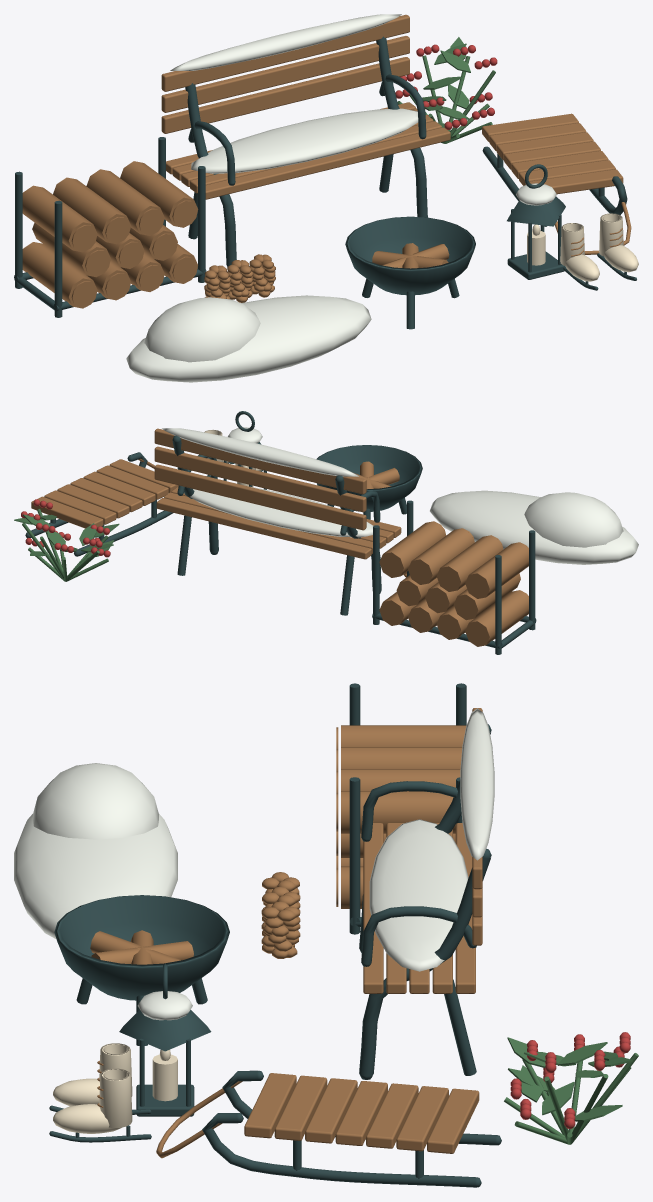
The model's file is almanac-gardens-winter-hearth-vignette-2e9f2952__22104.glb.
The picture shows the model from 3 angles, top to bottom: view 1: azimuth 30°, elevation 25°; view 2: azimuth 150°, elevation 25°; view 3: azimuth 270°, elevation 25°; orthographic projection. The views are drawn at different scales.
Parts seen in each view (by area): view 1: 000-snowy-bench/snowy-bench-oak, 006-snowdrift/snowdrift-snow, 002-firewood-rack/firewood-rack-bark, 000-snowy-bench/snowy-bench-snow, 004-wooden-sled/wooden-sled-oak, 001-garden-firepit/garden-firepit-iron, 002-firewood-rack/firewood-rack-oak, 000-snowy-bench/snowy-bench-iron, 002-firewood-rack/firewood-rack-iron, 005-ice-skates/ice-skates-ivory, 003-winter-lantern/winter-lantern-iron, 007-holly-bush/holly-bush-leaf (+6 smaller); view 2: 002-firewood-rack/firewood-rack-bark, 000-snowy-bench/snowy-bench-oak, 006-snowdrift/snowdrift-snow, 004-wooden-sled/wooden-sled-oak, 000-snowy-bench/snowy-bench-snow, 001-garden-firepit/garden-firepit-iron, 002-firewood-rack/firewood-rack-iron, 000-snowy-bench/snowy-bench-iron, 007-holly-bush/holly-bush-leaf, 004-wooden-sled/wooden-sled-iron, 007-holly-bush/holly-bush-red, 001-garden-firepit/garden-firepit-bark (+1 smaller); view 3: 006-snowdrift/snowdrift-snow, 004-wooden-sled/wooden-sled-oak, 000-snowy-bench/snowy-bench-snow, 001-garden-firepit/garden-firepit-iron, 002-firewood-rack/firewood-rack-bark, 000-snowy-bench/snowy-bench-iron, 000-snowy-bench/snowy-bench-oak, 007-holly-bush/holly-bush-leaf, 004-wooden-sled/wooden-sled-iron, 005-ice-skates/ice-skates-ivory, 003-winter-lantern/winter-lantern-iron, 002-firewood-rack/firewood-rack-iron (+7 smaller).
Boxes of the visible parts, left/top/right/bottom form: 000-snowy-bench/snowy-bench-oak: left=161, top=14, right=450, bottom=199; 006-snowdrift/snowdrift-snow: left=126, top=295, right=371, bottom=382; 002-firewood-rack/firewood-rack-bark: left=22, top=161, right=198, bottom=308; 000-snowy-bench/snowy-bench-snow: left=170, top=14, right=418, bottom=173; 004-wooden-sled/wooden-sled-oak: left=482, top=113, right=631, bottom=254; 001-garden-firepit/garden-firepit-iron: left=345, top=216, right=475, bottom=329; 002-firewood-rack/firewood-rack-oak: left=71, top=200, right=197, bottom=307; 000-snowy-bench/snowy-bench-iron: left=185, top=36, right=427, bottom=266; 002-firewood-rack/firewood-rack-iron: left=14, top=137, right=206, bottom=317; 005-ice-skates/ice-skates-ivory: left=560, top=213, right=638, bottom=281; 003-winter-lantern/winter-lantern-iron: left=507, top=164, right=565, bottom=279; 007-holly-bush/holly-bush-leaf: left=397, top=37, right=495, bottom=143; 002-firewood-rack/firewood-rack-bark: left=379, top=521, right=528, bottom=646; 000-snowy-bench/snowy-bench-oak: left=154, top=428, right=401, bottom=559; 006-snowdrift/snowdrift-snow: left=430, top=490, right=638, bottom=564; 004-wooden-sled/wooden-sled-oak: left=31, top=458, right=178, bottom=528; 000-snowy-bench/snowy-bench-snow: left=162, top=428, right=373, bottom=537; 001-garden-firepit/garden-firepit-iron: left=316, top=445, right=422, bottom=519; 002-firewood-rack/firewood-rack-iron: left=372, top=500, right=536, bottom=654; 000-snowy-bench/snowy-bench-iron: left=172, top=435, right=381, bottom=615; 007-holly-bush/holly-bush-leaf: left=14, top=509, right=119, bottom=581; 004-wooden-sled/wooden-sled-iron: left=25, top=452, right=173, bottom=556; 007-holly-bush/holly-bush-red: left=21, top=499, right=110, bottom=557; 001-garden-firepit/garden-firepit-bark: left=354, top=461, right=399, bottom=489; 006-snowdrift/snowdrift-snow: left=14, top=763, right=177, bottom=939; 004-wooden-sled/wooden-sled-oak: left=156, top=1073, right=479, bottom=1158; 000-snowy-bench/snowy-bench-snow: left=369, top=708, right=494, bottom=971; 001-garden-firepit/garden-firepit-iron: left=54, top=895, right=229, bottom=1045; 002-firewood-rack/firewood-rack-bark: left=341, top=725, right=466, bottom=908; 000-snowy-bench/snowy-bench-iron: left=359, top=724, right=491, bottom=1079; 000-snowy-bench/snowy-bench-oak: left=363, top=708, right=482, bottom=993; 007-holly-bush/holly-bush-leaf: left=504, top=1037, right=638, bottom=1144; 004-wooden-sled/wooden-sled-iron: left=202, top=1070, right=501, bottom=1187; 005-ice-skates/ice-skates-ivory: left=53, top=1043, right=132, bottom=1133; 003-winter-lantern/winter-lantern-iron: left=119, top=964, right=211, bottom=1116; 002-firewood-rack/firewood-rack-iron: left=349, top=683, right=466, bottom=934.
Bounding box in the file's own units: 3.86 × 1.16 × 2.7.
